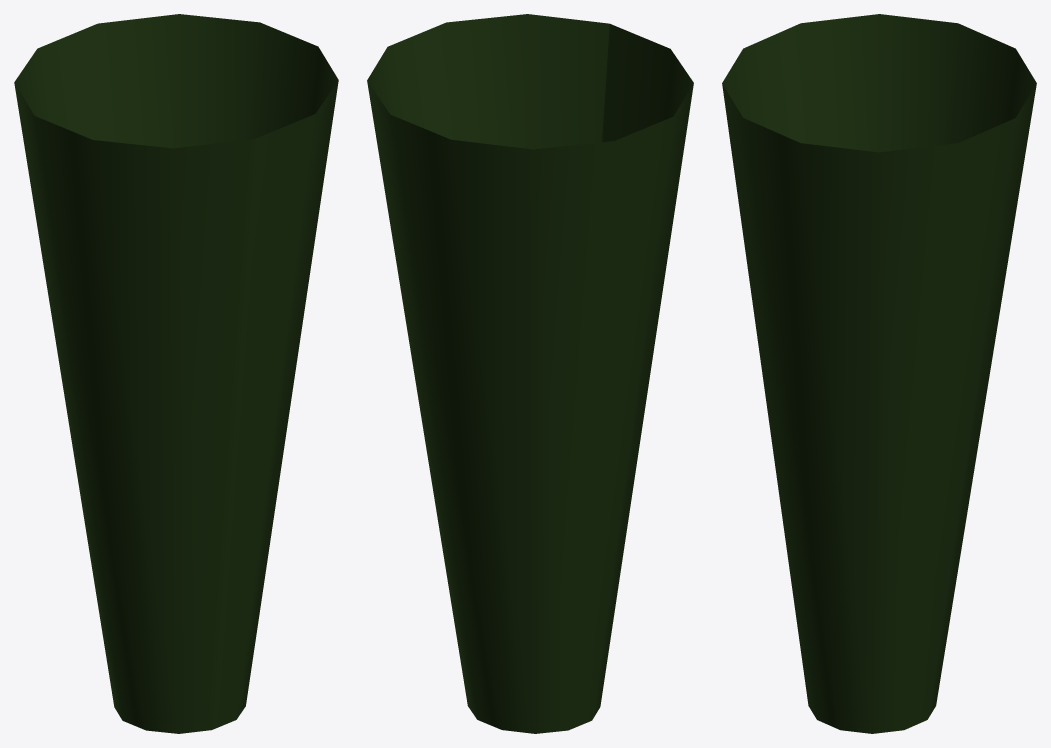
Rendered from S_Grass_03.fbx.
3 renders of one model, left to right at view 1: azimuth 30°, elevation 25°; view 2: azimuth 150°, elevation 25°; view 3: azimuth 270°, elevation 25°, orthographic.
Parts seen in each view (by area): view 1: Plane006; view 2: Plane006; view 3: Plane006.
Boxes of the visible parts, x1=… form: Plane006: x1=14, y1=14, x2=338, y2=733; Plane006: x1=367, y1=14, x2=693, y2=733; Plane006: x1=722, y1=14, x2=1036, y2=733.
Size of the model in its own units: 4.16 by 8.72 by 3.99.
